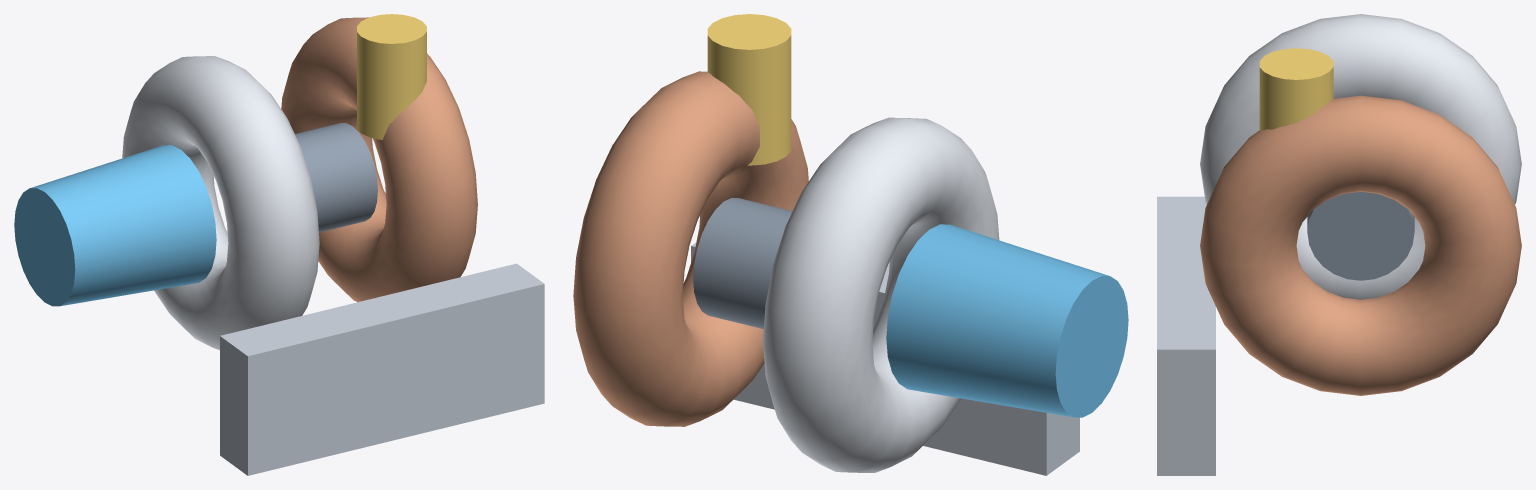
Rendered from mech-turbo.glb.
The picture shows the model from 3 angles, left to right: view 1: azimuth 30°, elevation 25°; view 2: azimuth 150°, elevation 25°; view 3: azimuth 270°, elevation 25°; orthographic projection. The views are drawn at different scales.
Parts seen in each view (by area): view 1: part_intercooler, part_compressor_housing, part_turbine_housing, part_air_intake, part_wastegate_actuator, part_chra_cartridge; view 2: part_compressor_housing, part_turbine_housing, part_air_intake, part_chra_cartridge, part_intercooler, part_wastegate_actuator; view 3: part_turbine_housing, part_compressor_housing, part_intercooler, part_chra_cartridge, part_wastegate_actuator.
Part boxes in pixels (x1=…): part_intercooler: x1=220, y1=263, x2=544, y2=475; part_compressor_housing: x1=122, y1=56, x2=319, y2=350; part_turbine_housing: x1=281, y1=17, x2=477, y2=302; part_air_intake: x1=14, y1=145, x2=216, y2=306; part_wastegate_actuator: x1=357, y1=14, x2=426, y2=139; part_chra_cartridge: x1=295, y1=123, x2=377, y2=232; part_compressor_housing: x1=763, y1=117, x2=999, y2=472; part_turbine_housing: x1=573, y1=71, x2=808, y2=426; part_air_intake: x1=886, y1=224, x2=1128, y2=417; part_chra_cartridge: x1=693, y1=198, x2=792, y2=329; part_intercooler: x1=691, y1=242, x2=1079, y2=475; part_wastegate_actuator: x1=707, y1=14, x2=791, y2=165; part_turbine_housing: x1=1200, y1=95, x2=1521, y2=395; part_compressor_housing: x1=1200, y1=14, x2=1521, y2=299; part_intercooler: x1=1157, y1=196, x2=1215, y2=475; part_chra_cartridge: x1=1307, y1=192, x2=1414, y2=280; part_wastegate_actuator: x1=1259, y1=48, x2=1333, y2=130.
Size of the model in its own units: 1.84 by 1.51 by 1.36.
